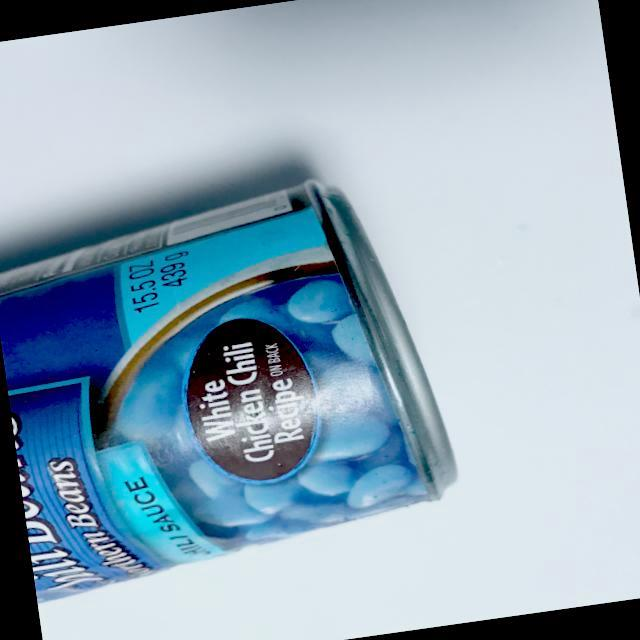metal: (0, 148, 476, 610)
